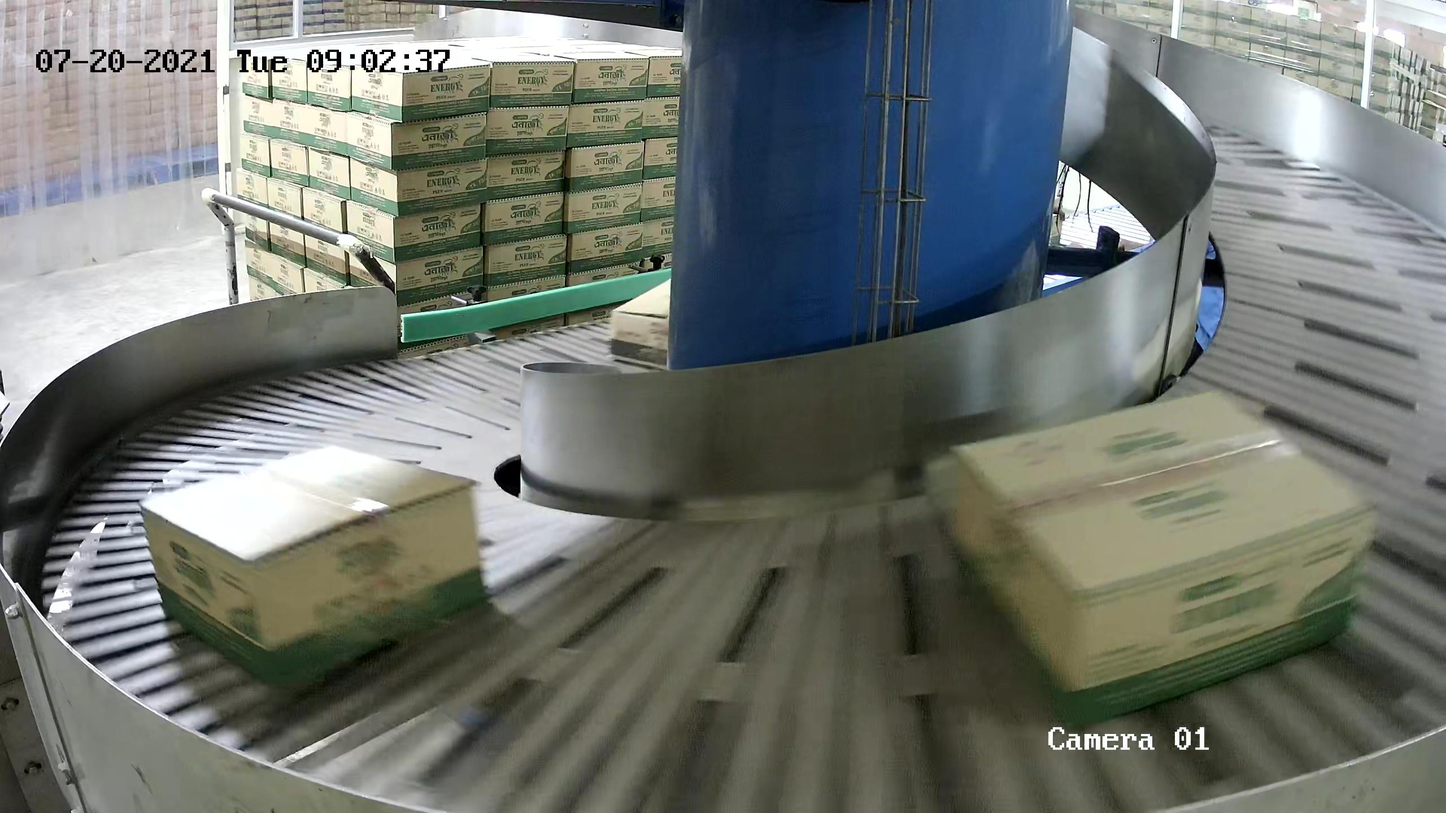Box: (942, 388, 1373, 732), (140, 443, 489, 700), (608, 236, 790, 374)
